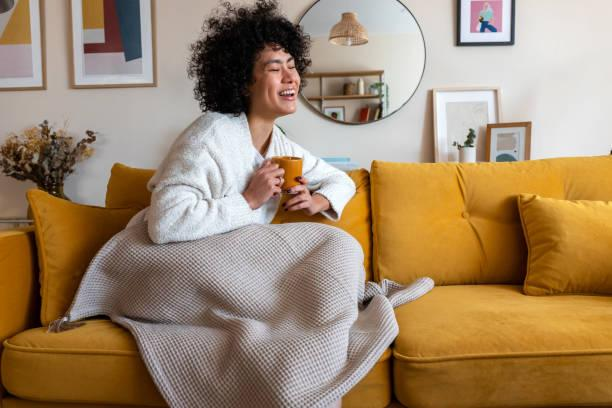blanket: (53, 218, 435, 408)
sweater: (125, 108, 357, 246)
